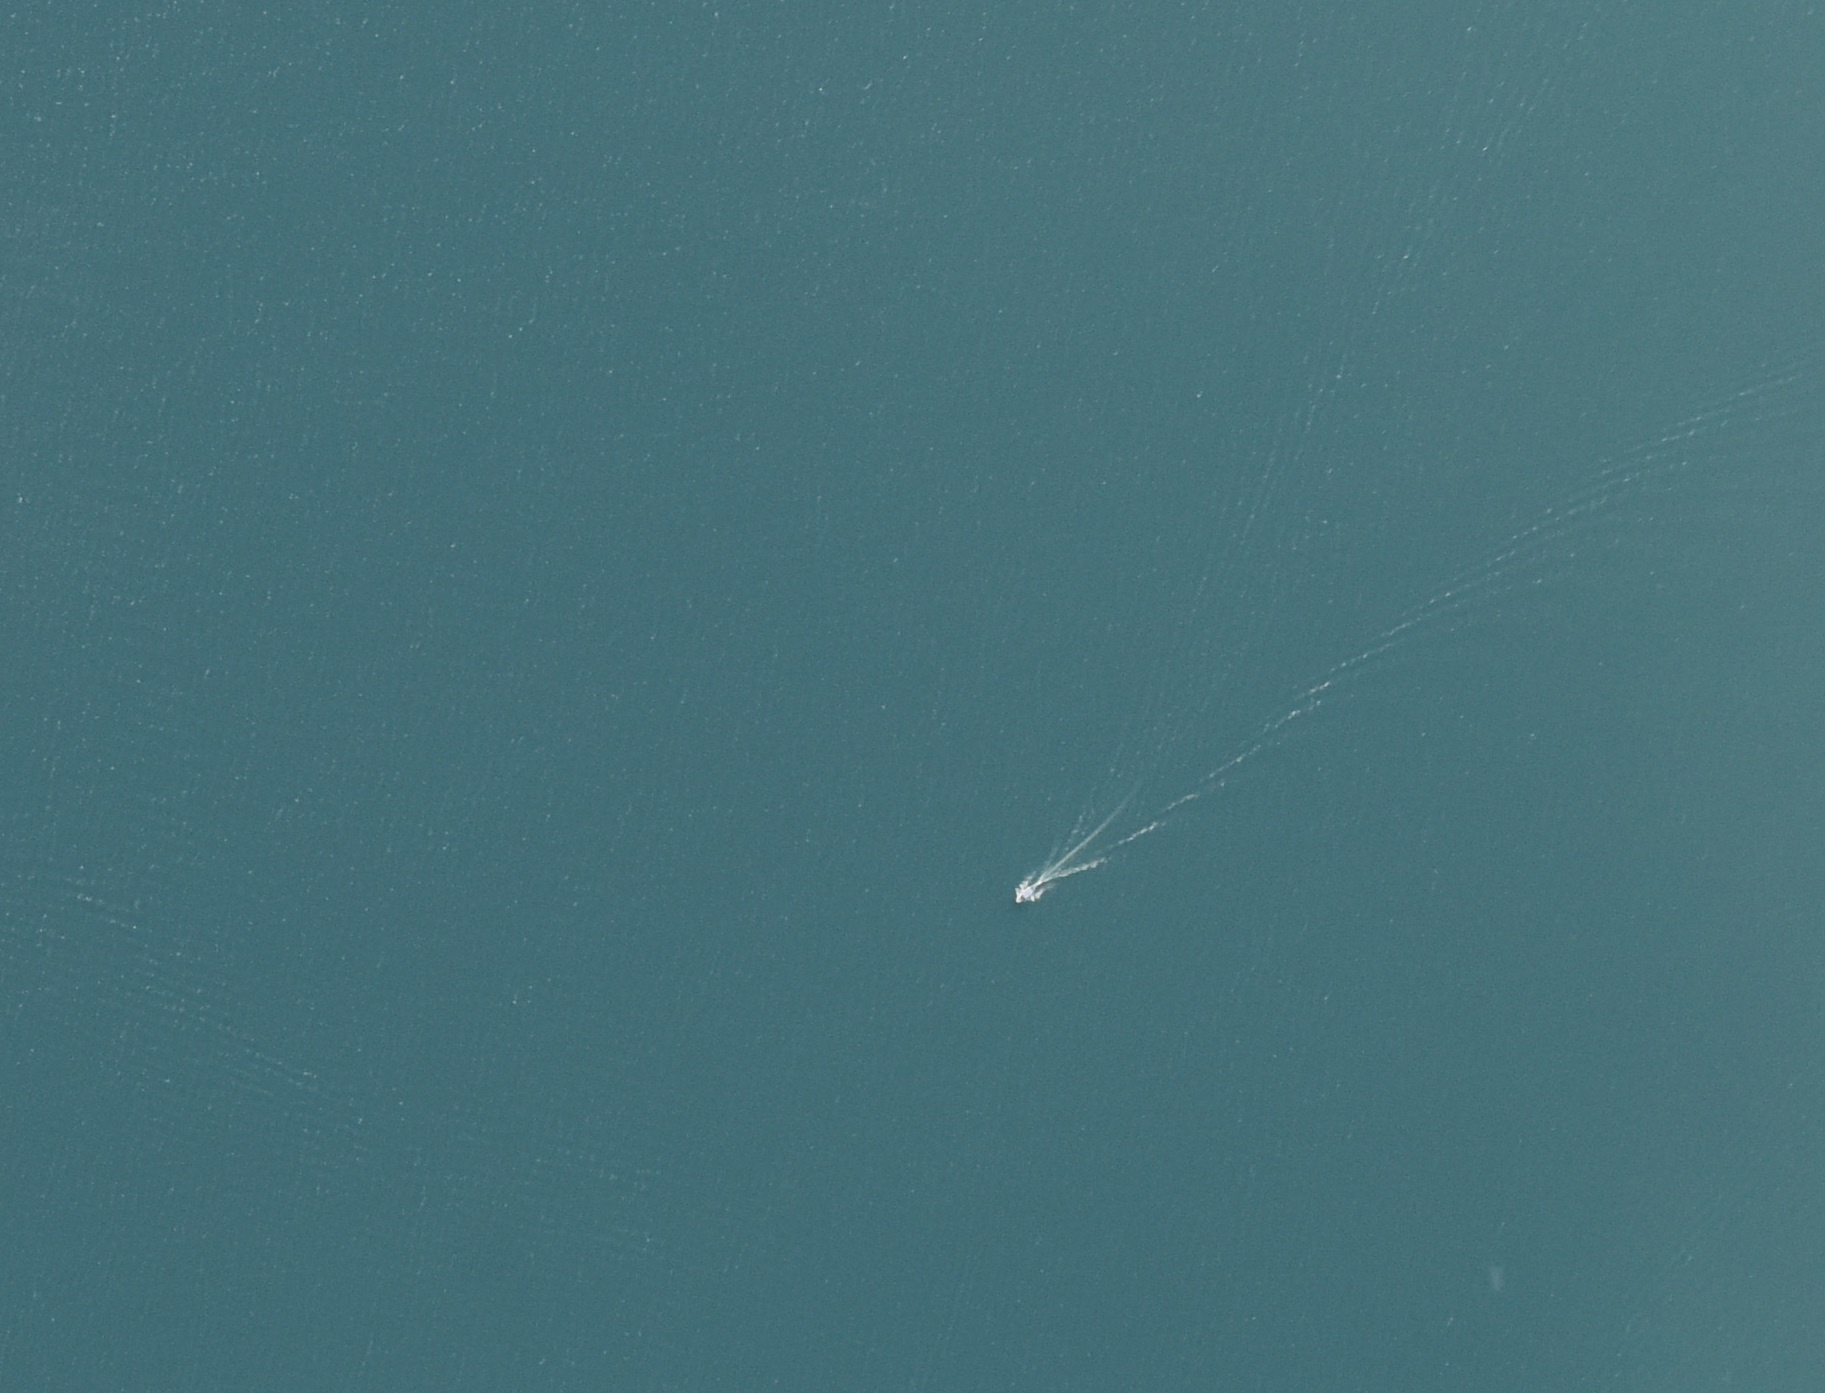ship: (1013, 866, 1049, 906)
